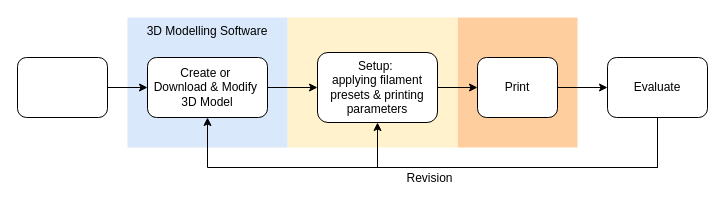
The diagram is 725 pixels wide and 202 high, and some of its shapes have lost their labels. The box of each missing label's shape, as (x1, y1, x2, y2) in pixels:
3D Printer: (457, 17, 577, 147)
Ideation / Planning: (16, 56, 108, 118)
Slicer: (287, 17, 457, 147)
